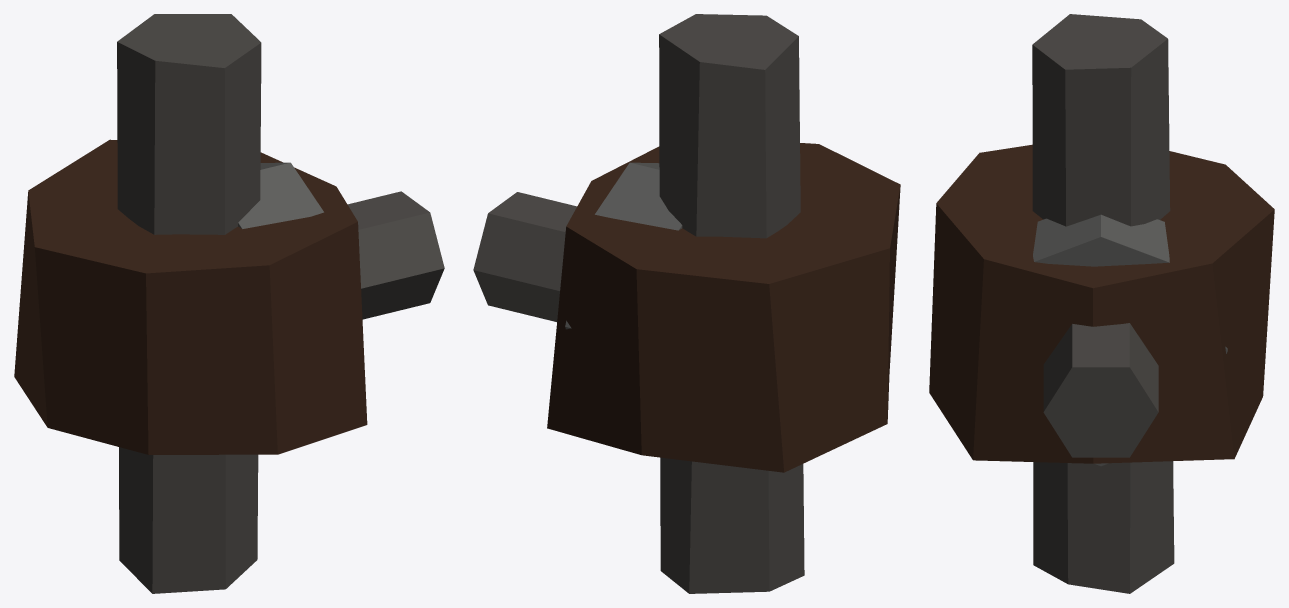
The model's file is axle.glb.
The picture shows the model from 3 angles, left to right: view 1: azimuth 30°, elevation 25°; view 2: azimuth 150°, elevation 25°; view 3: azimuth 270°, elevation 25°; orthographic projection.
Parts seen in each view (by area): view 1: axle; view 2: axle; view 3: axle.
Boxes of the visible parts, x1,y1,x2,y2 form: axle: [14, 14, 444, 593]; axle: [473, 14, 900, 593]; axle: [929, 14, 1274, 593].
Bounding box in the file's own units: 0.762 × 1.01 × 0.6005.
